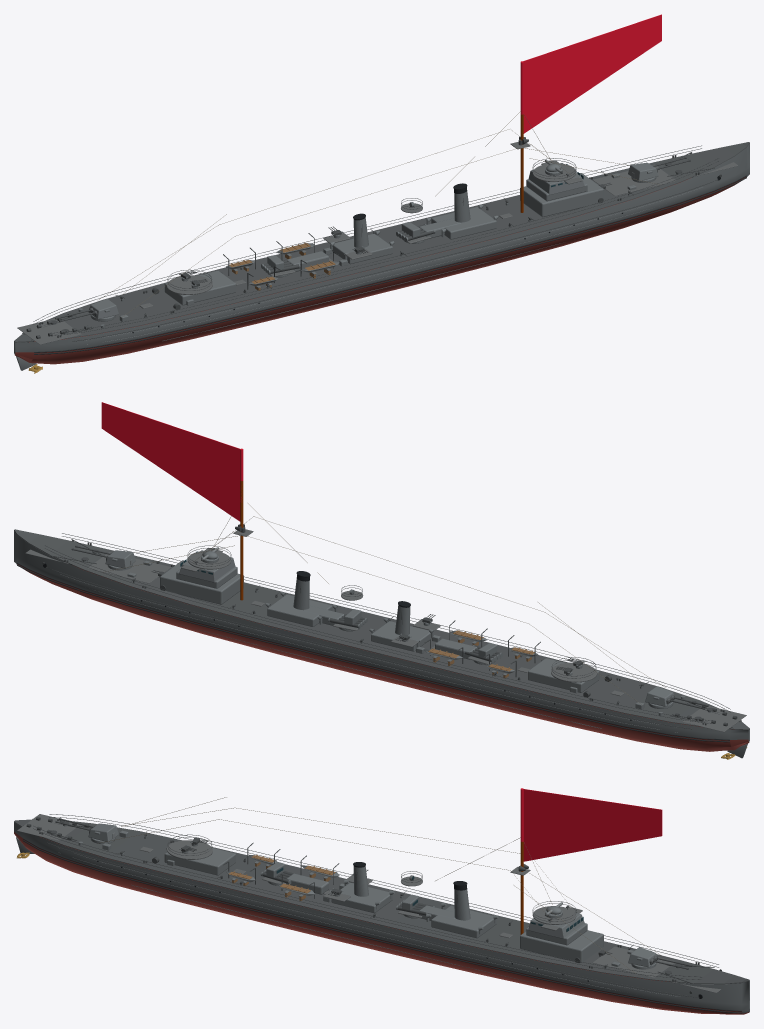
3 views of the same model, one above another, from view 1: azimuth 30°, elevation 25°; view 2: azimuth 150°, elevation 25°; view 3: azimuth 330°, elevation 25° (orthographic).
Visible parts, largest first — view 1: Hull_Main, Main_Weather_Deck, Yukikaze_IDFlag, Forward_Deckhouse_Lower, BootBandBottom_-1, BootBandTop_-1, Foredeck_Steel_Plate, Forward_Funnel_Base, Aft_Deckhouse, Aft_Funnel_Base, Degaussing_Cable_-1, Stern_Steel_Plate (+3 smaller); view 2: Hull_Main, Main_Weather_Deck, Yukikaze_IDFlag, Forward_Deckhouse_Lower, BootBandBottom_1, BootBandTop_1, Foredeck_Steel_Plate, Forward_Funnel_Base, Aft_Deckhouse, Aft_Funnel_Base, Degaussing_Cable_1, Stern_Steel_Plate (+4 smaller); view 3: Hull_Main, Main_Weather_Deck, Yukikaze_IDFlag, Forward_Deckhouse_Lower, BootBandBottom_-1, BootBandTop_-1, Forward_Funnel_Base, Foredeck_Steel_Plate, Aft_Deckhouse, Aft_Funnel_Base, Degaussing_Cable_-1, Stern_Steel_Plate (+16 smaller).
Boxes of the visible parts, box(x1,y1,x2,y2) form: Hull_Main: box(14, 143, 749, 364); Main_Weather_Deck: box(14, 142, 749, 342); Yukikaze_IDFlag: box(522, 14, 661, 133); Forward_Deckhouse_Lower: box(520, 173, 603, 217); BootBandBottom_-1: box(34, 177, 746, 354); BootBandTop_-1: box(34, 175, 746, 352); Foredeck_Steel_Plate: box(593, 161, 738, 195); Forward_Funnel_Base: box(431, 207, 496, 239); Aft_Deckhouse: box(164, 270, 235, 305); Aft_Funnel_Base: box(332, 233, 392, 264); Degaussing_Cable_-1: box(72, 179, 717, 341); Stern_Steel_Plate: box(17, 318, 81, 344); Hull_Main: box(14, 531, 749, 751); Main_Weather_Deck: box(14, 529, 749, 729); Yukikaze_IDFlag: box(101, 402, 241, 521); Forward_Deckhouse_Lower: box(160, 560, 243, 604); BootBandBottom_1: box(17, 564, 729, 742); BootBandTop_1: box(17, 563, 729, 740); Foredeck_Steel_Plate: box(25, 547, 171, 583); Forward_Funnel_Base: box(267, 594, 332, 626); Aft_Deckhouse: box(528, 658, 599, 692); Aft_Funnel_Base: box(371, 621, 431, 651); Degaussing_Cable_1: box(45, 567, 691, 729); Stern_Steel_Plate: box(683, 706, 746, 731); Hull_Main: box(14, 822, 749, 1014); Main_Weather_Deck: box(14, 819, 749, 984); Yukikaze_IDFlag: box(522, 788, 662, 861); Forward_Deckhouse_Lower: box(520, 930, 603, 962); BootBandBottom_-1: box(23, 840, 741, 1013); BootBandTop_-1: box(23, 838, 741, 1011); Forward_Funnel_Base: box(431, 905, 496, 938); Foredeck_Steel_Plate: box(592, 946, 727, 992); Aft_Deckhouse: box(164, 848, 235, 875); Aft_Funnel_Base: box(331, 882, 392, 913); Degaussing_Cable_-1: box(47, 842, 699, 997); Stern_Steel_Plate: box(17, 814, 79, 840).
Bounding box in the file's own units: 11851 × 3170 × 1102.
